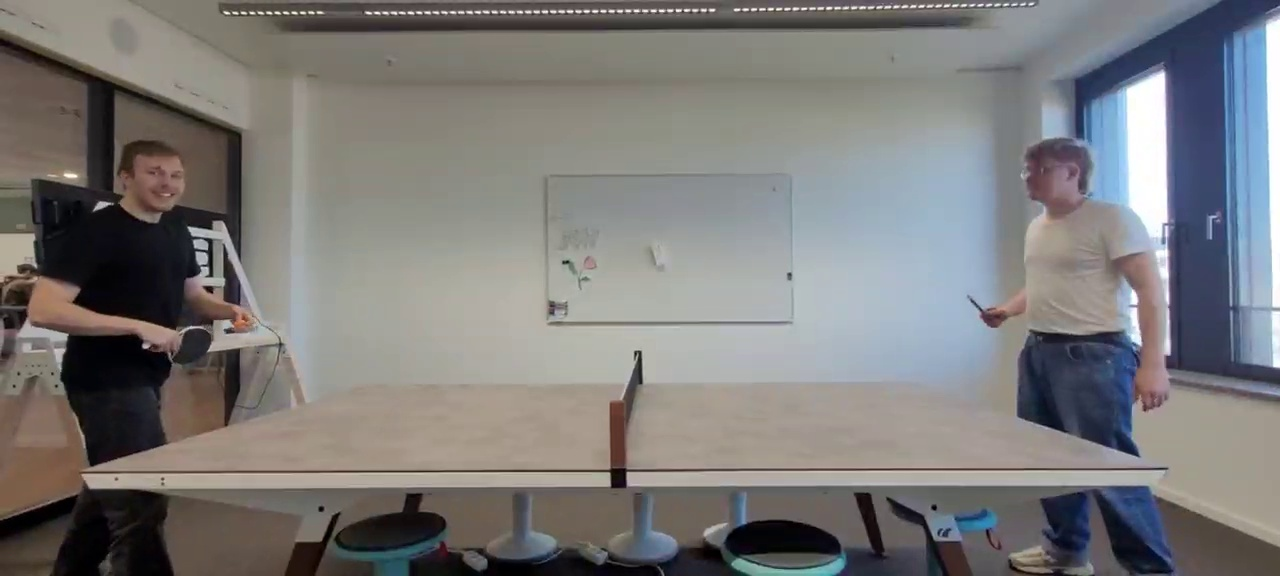plate: (79, 383, 1169, 471)
racket: (141, 326, 212, 364), (965, 293, 989, 319)
ttball: (234, 319, 245, 328)
